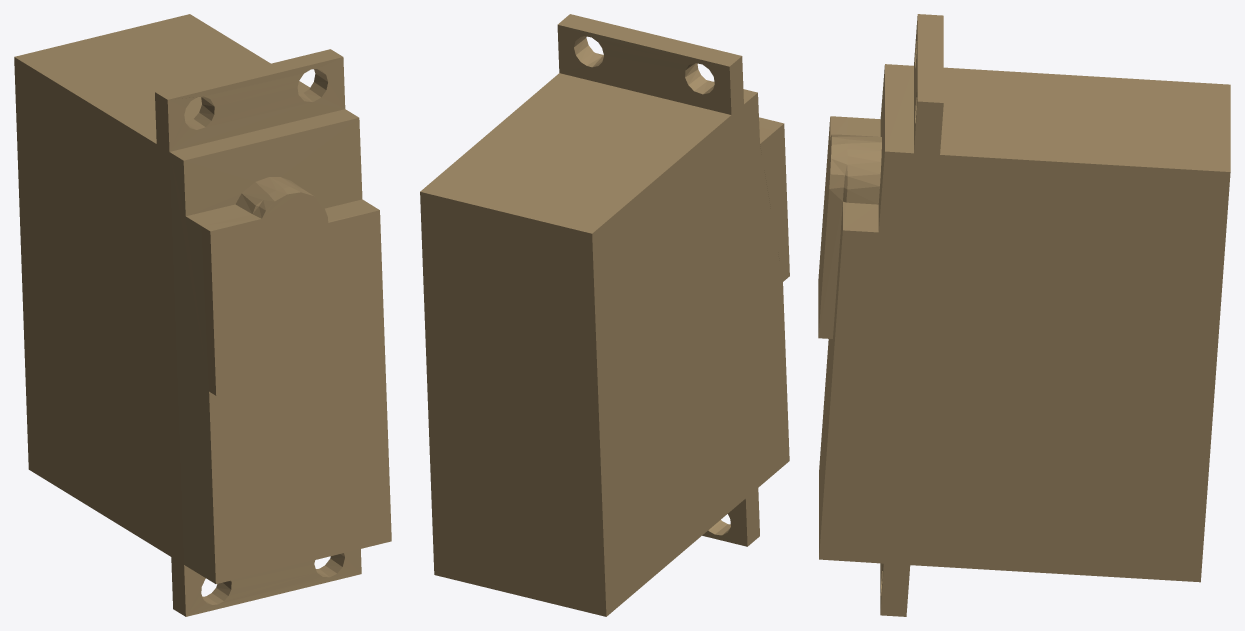
File: left_elbow_x_link_visual_9.obj.full.glb
3 renders of one model, left to right at view 1: azimuth 30°, elevation 25°; view 2: azimuth 150°, elevation 25°; view 3: azimuth 270°, elevation 25°, orthographic. The views are drawn at different scales.
Size of the model in its own units: 0.2828 by 0.7762 by 0.5625.
